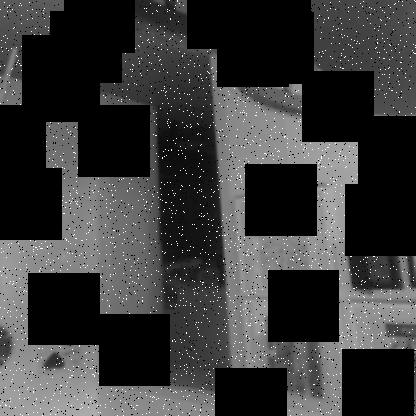Porte: (93, 46, 246, 414)
